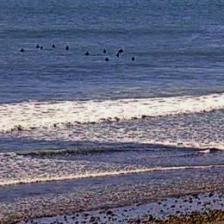surfer: (84, 50, 90, 55), (118, 48, 124, 53), (105, 57, 110, 62), (35, 44, 40, 48), (20, 48, 24, 52), (40, 46, 44, 49), (52, 44, 55, 48), (116, 54, 120, 57), (131, 57, 134, 61), (66, 46, 68, 50), (104, 49, 106, 53)
